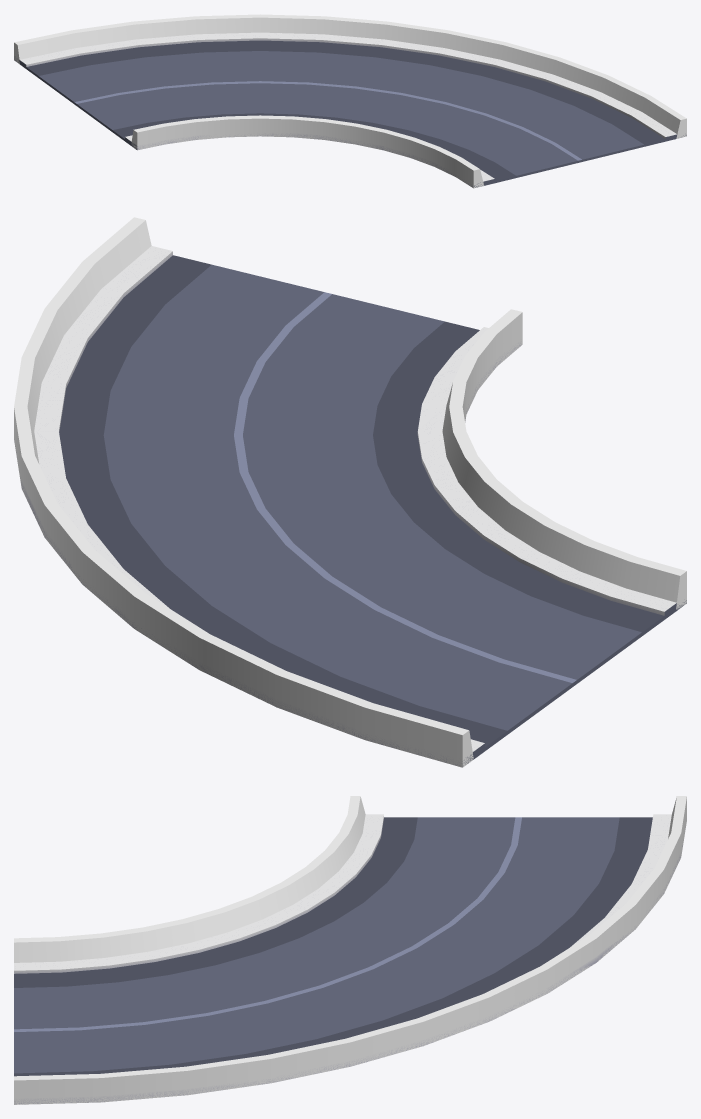
Rendered from road_curve.glb.
3 views of the same model, one above another, from view 1: azimuth 30°, elevation 25°; view 2: azimuth 150°, elevation 25°; view 3: azimuth 270°, elevation 25° (orthographic). The views are drawn at different scales.
Visible parts, largest first — view 1: road-curve-barrier; view 2: road-curve-barrier; view 3: road-curve-barrier.
Part boxes in pixels (box(x1,y1,x2,y2)): road-curve-barrier: box(14, 14, 686, 188); road-curve-barrier: box(14, 217, 686, 767); road-curve-barrier: box(14, 796, 686, 1104).
Size of the model in its own units: 2 by 0.08 by 2.
Materials: 1 (1 with a texture image).
